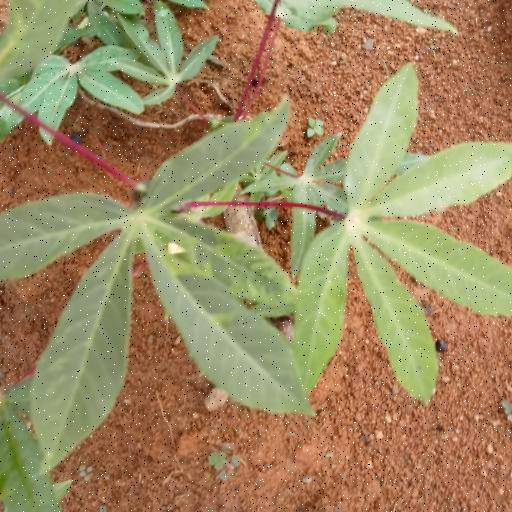Cassava_Mosaic: (0, 100, 292, 428)
